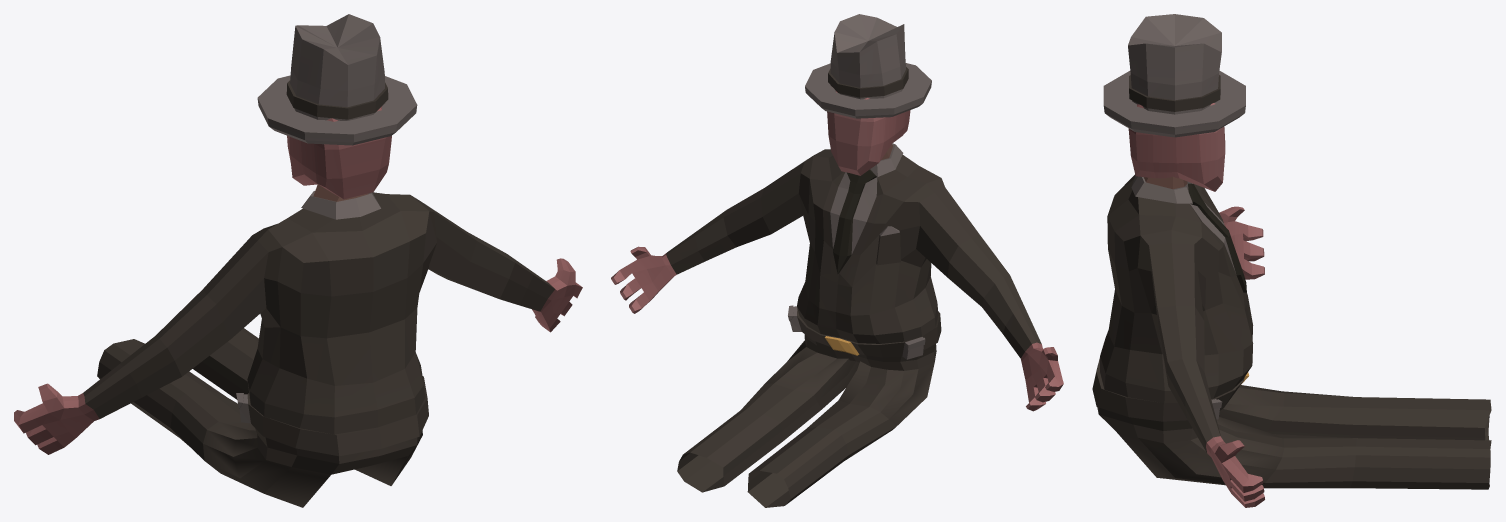
Rendered from AntonioSitting.fbx.
3 renders of one model, left to right at view 1: azimuth 30°, elevation 25°; view 2: azimuth 150°, elevation 25°; view 3: azimuth 270°, elevation 25°, orthographic. The views are drawn at different scales.
Parts seen in each view (by area): view 1: AntonioSitting; view 2: AntonioSitting; view 3: AntonioSitting.
Boxes of the visible parts, x1,y1,x2,y2 form: AntonioSitting: (14,14,582,507); AntonioSitting: (611,14,1063,507); AntonioSitting: (1092,14,1491,507).
Bounding box in the file's own units: 1.15 × 0.9191 × 0.7591.
